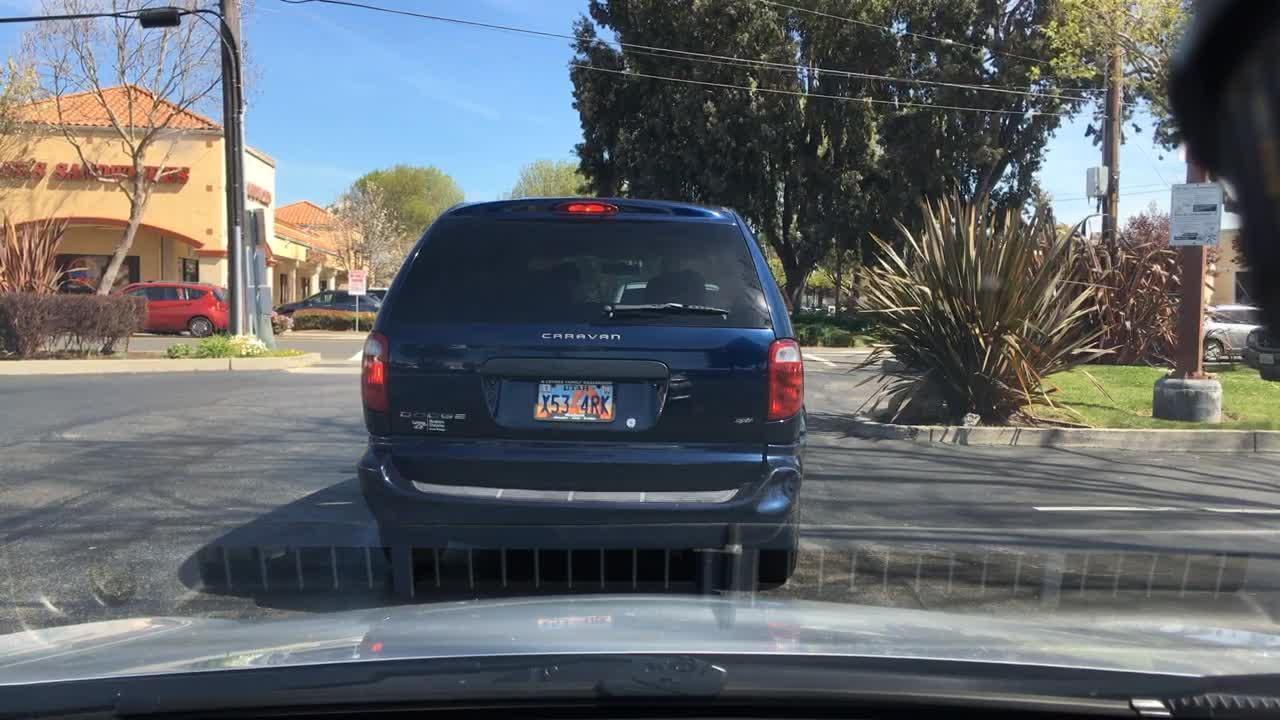dodge: (398, 400, 469, 428)
